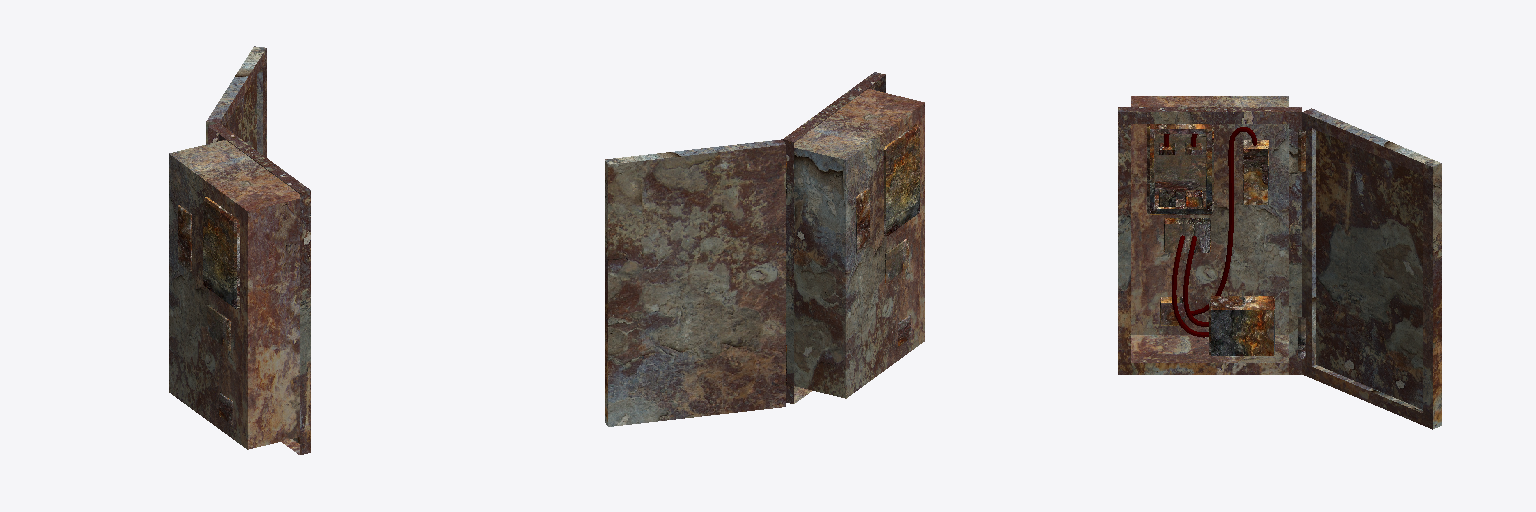
The picture shows the model from 3 angles: view 1: azimuth 30°, elevation 25°; view 2: azimuth 150°, elevation 25°; view 3: azimuth 270°, elevation 25°; orthographic projection.
Parts seen in each view (by area): view 1: ElectricBox; view 2: ElectricBox; view 3: ElectricBox.
Boxes of the visible parts, x1,y1,x2,y2 form: ElectricBox: [169, 46, 310, 454]; ElectricBox: [605, 72, 924, 426]; ElectricBox: [1118, 96, 1441, 429].
Bounding box in the file's own units: 0.7634 × 1.1 × 1.23.
3 materials, 2 textured.